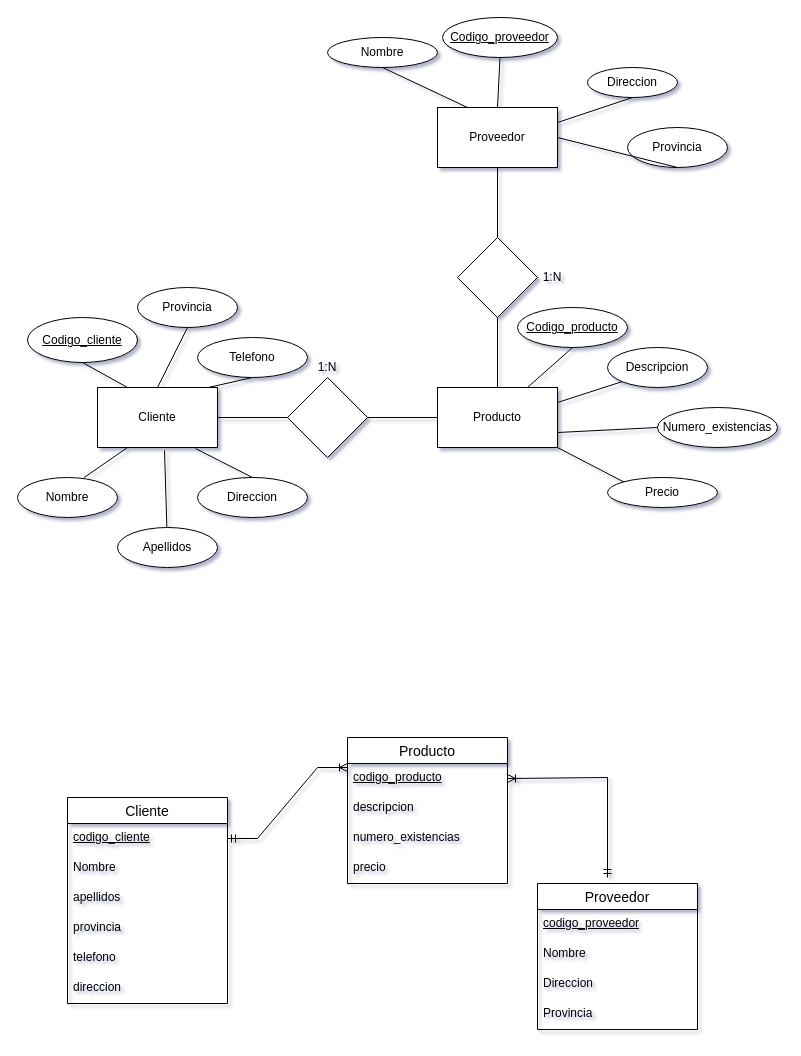
Image size: 801x1056. Some labels were removed from this diagram. The box of each missing label's shape, as (x1, y1, x2, y2) in pixels:
Compra: (286, 376, 368, 458)
Suministra: (456, 236, 538, 318)
